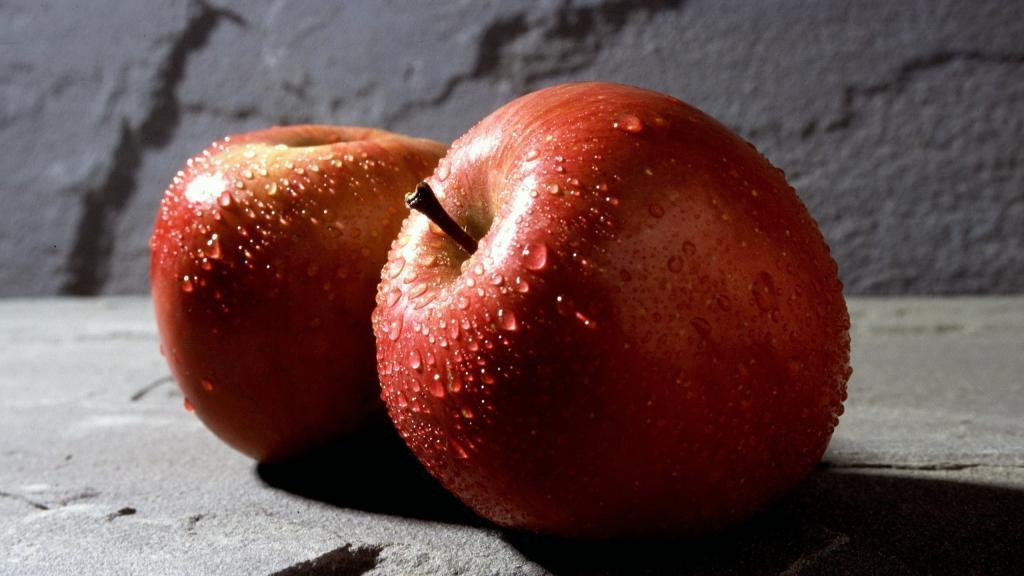apple: (366, 85, 859, 544)
